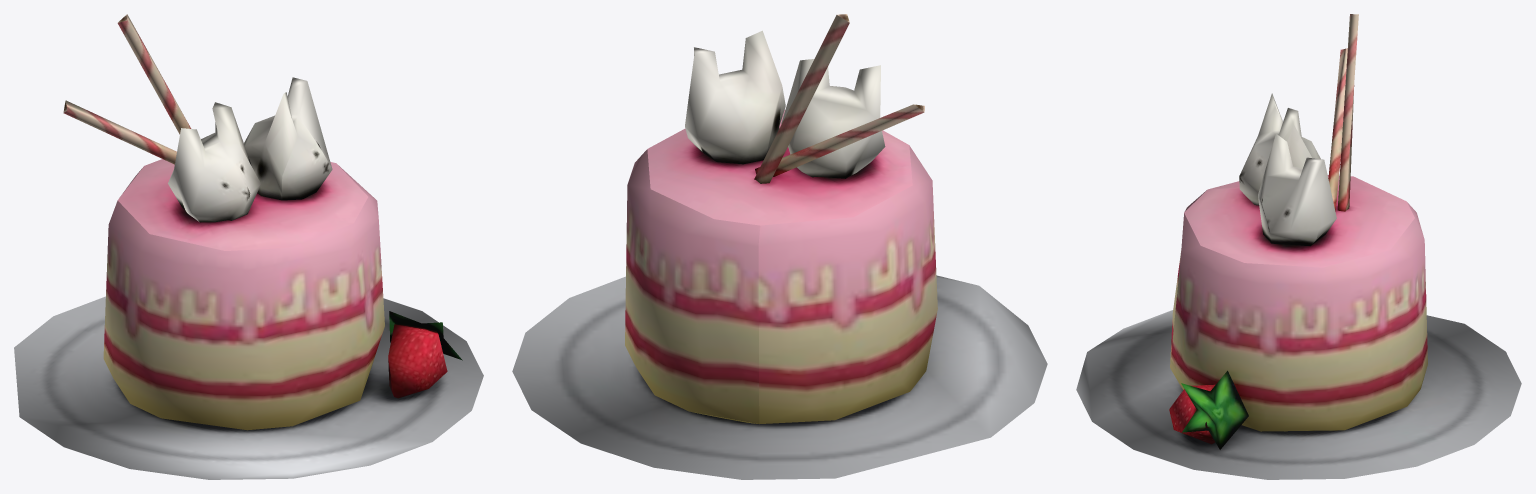
The model's file is Cake.glb.
The picture shows the model from 3 angles, left to right: view 1: azimuth 30°, elevation 25°; view 2: azimuth 150°, elevation 25°; view 3: azimuth 270°, elevation 25°; orthographic projection. The views are drawn at different scales.
Parts seen in each view (by area): view 1: Obj3d66-12893111-3-131, Obj3d66-12893111-2-199; view 2: Obj3d66-12893111-3-131, Obj3d66-12893111-2-199; view 3: Obj3d66-12893111-3-131, Obj3d66-12893111-2-199.
Boxes of the visible parts, x1,y1,x2,y2 form: Obj3d66-12893111-3-131: [63, 14, 384, 430]; Obj3d66-12893111-2-199: [14, 296, 483, 479]; Obj3d66-12893111-3-131: [625, 14, 937, 424]; Obj3d66-12893111-2-199: [512, 275, 1047, 479]; Obj3d66-12893111-3-131: [1170, 14, 1427, 431]; Obj3d66-12893111-2-199: [1076, 310, 1521, 479].
Size of the model in its own units: 2.19 by 1.92 by 2.21.
Materials: 2 (2 with a texture image).
